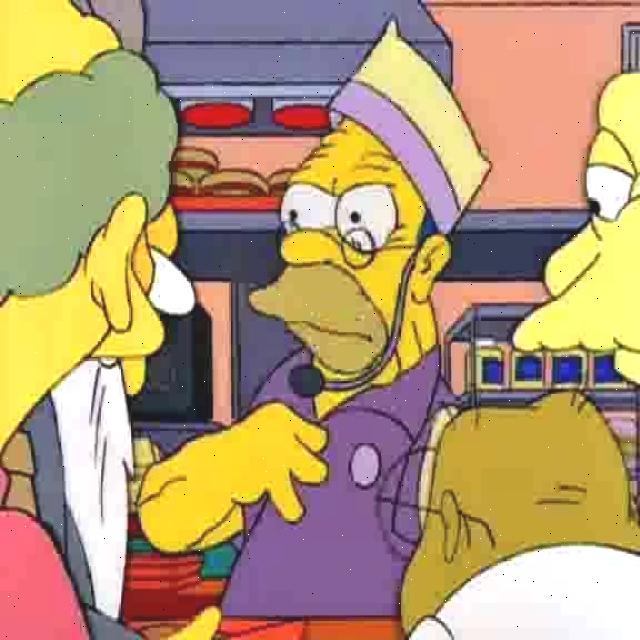Abraham Grampa Simpson: (248, 16, 494, 378)
